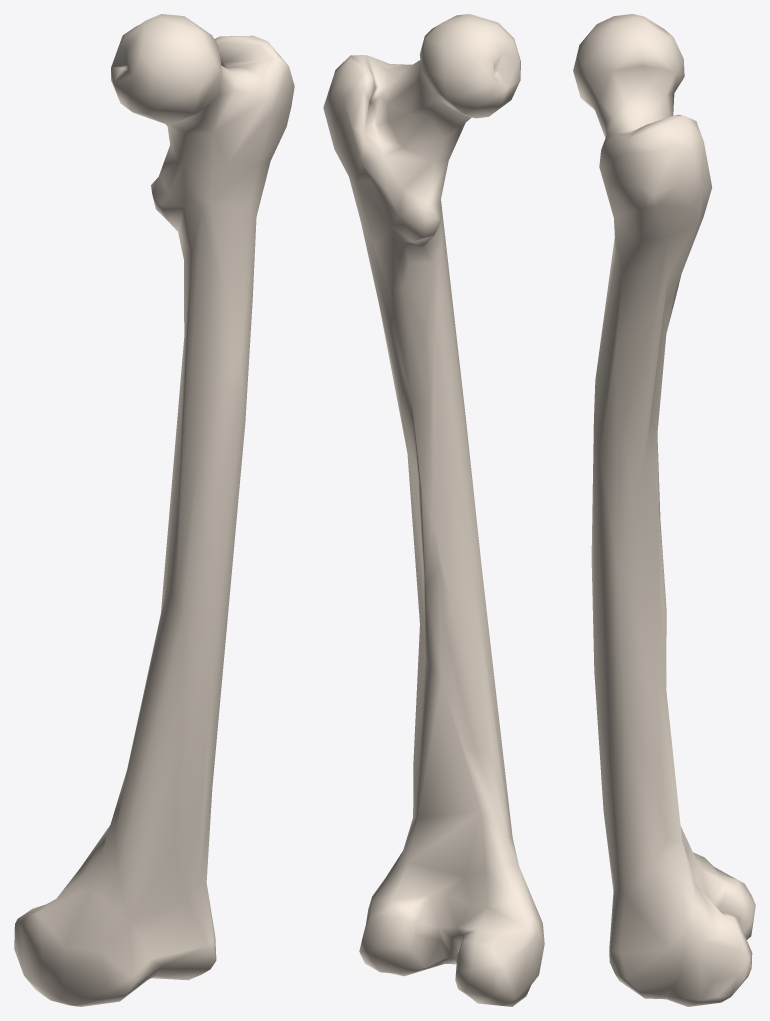
The model's file is left_femur.glb.
The picture shows the model from 3 angles, left to right: view 1: azimuth 30°, elevation 25°; view 2: azimuth 150°, elevation 25°; view 3: azimuth 270°, elevation 25°; orthographic projection. The views are drawn at different scales.
Visible parts, largest first — view 1: Femur.r; view 2: Femur.r; view 3: Femur.r.
Part boxes in pixels (box(x1,y1,x2,y2)): Femur.r: box(14, 14, 294, 1006); Femur.r: box(323, 14, 544, 1006); Femur.r: box(573, 14, 755, 1006).
Bounding box in the file's own units: 0.1153 × 0.4509 × 0.0769.
